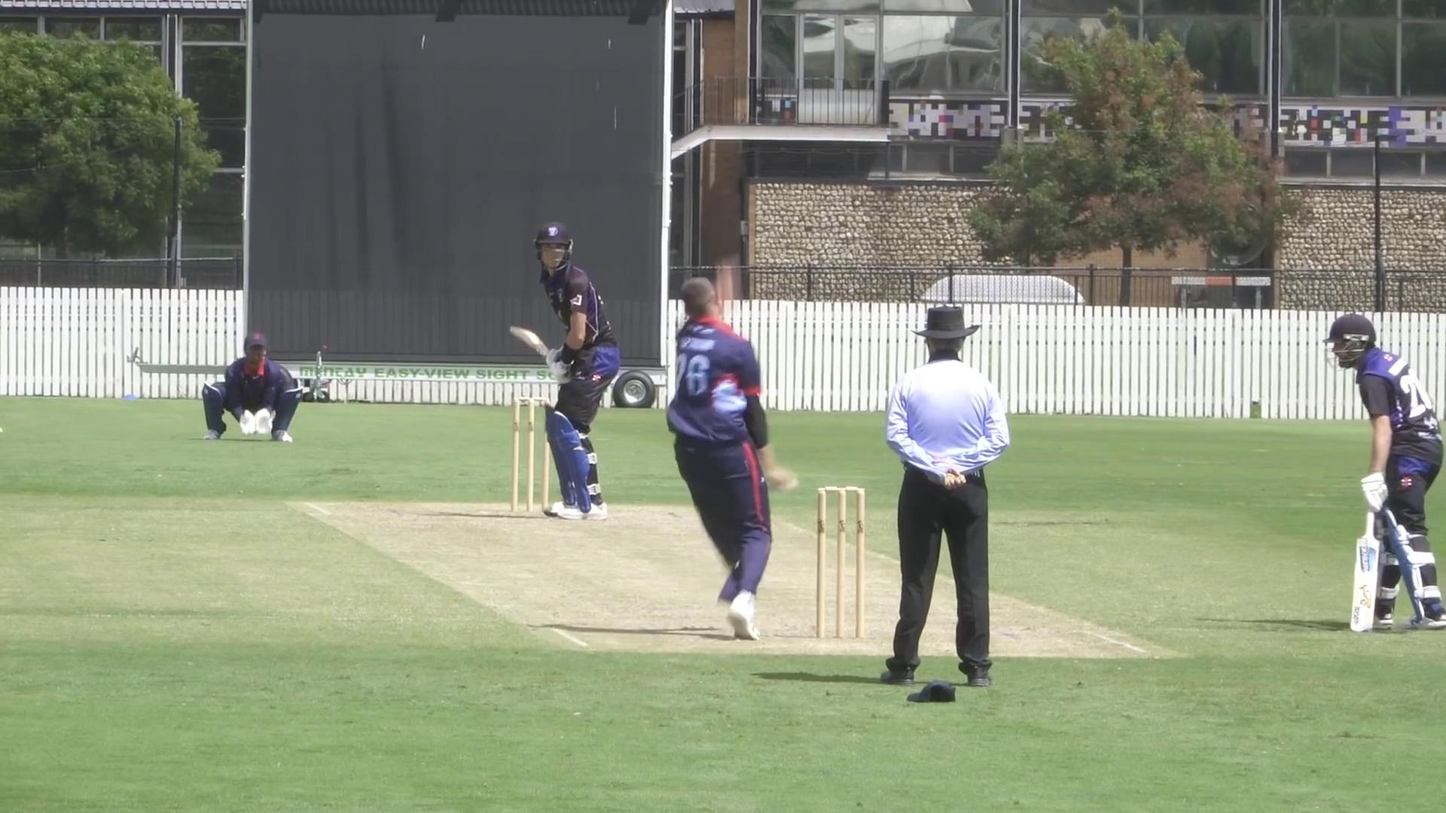ball: (777, 467, 804, 499)
